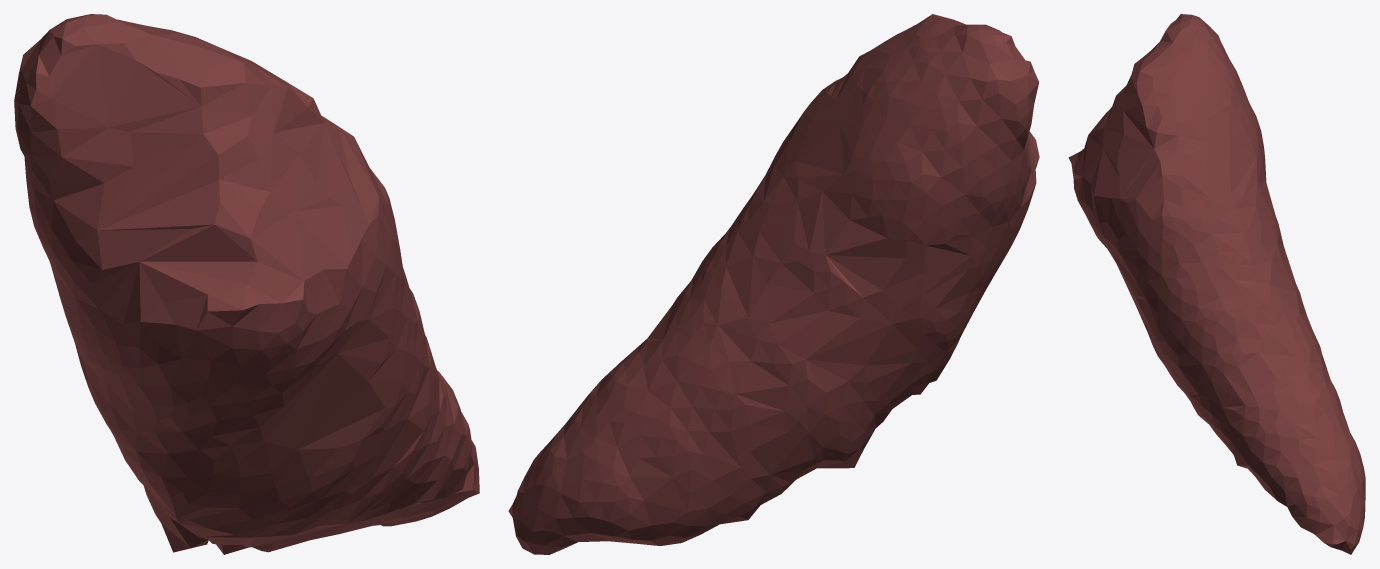
File: Model_10612_LH__Solitary_nucleus_(Sol).obj
The picture shows the model from 3 angles, left to right: view 1: azimuth 30°, elevation 25°; view 2: azimuth 150°, elevation 25°; view 3: azimuth 270°, elevation 25°; orthographic projection. The views are drawn at different scales.
Bounding box in the file's own units: 1.89 × 2.24 × 1.49.
